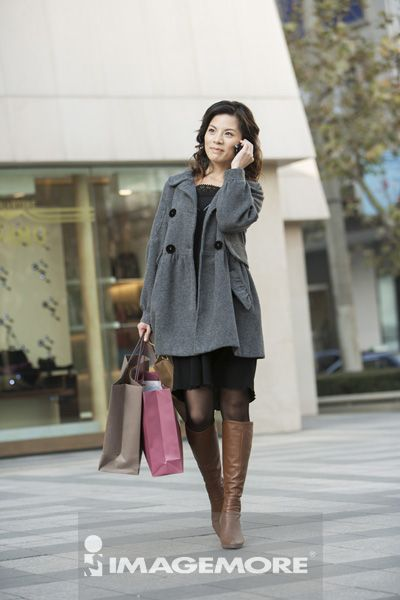talk: (205, 123, 255, 168)
